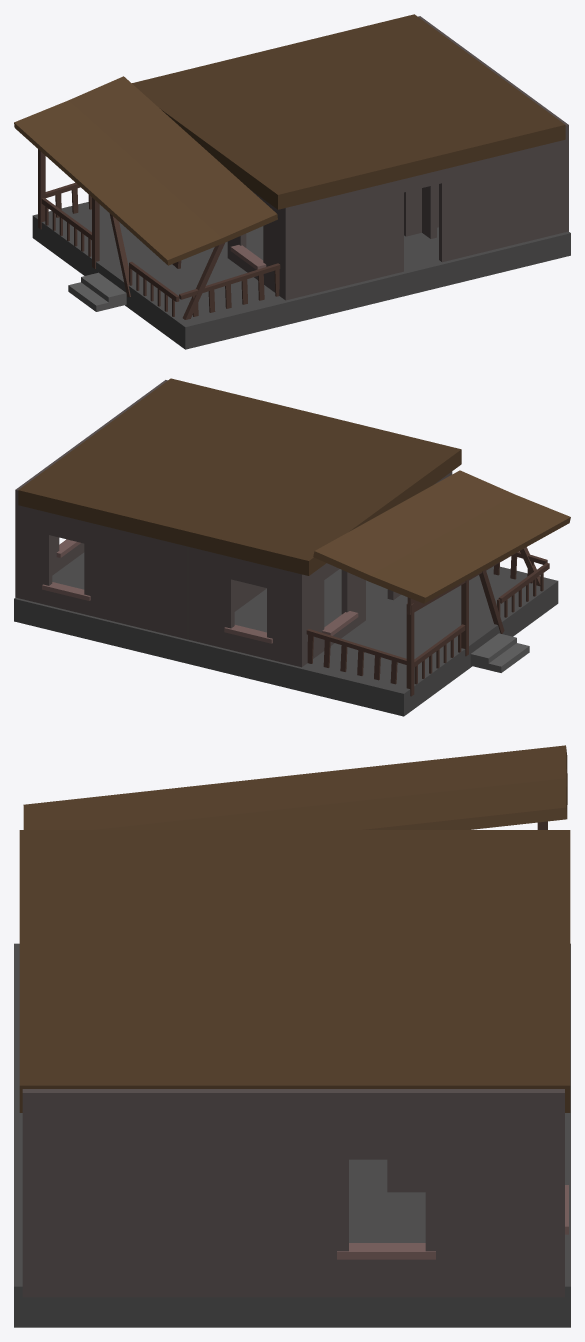
File: Warteg.fbx
The picture shows the model from 3 angles, top to bottom: view 1: azimuth 30°, elevation 25°; view 2: azimuth 150°, elevation 25°; view 3: azimuth 270°, elevation 25°; orthographic projection. The views are drawn at different scales.
Parts seen in each view (by area): view 1: polySurface46; view 2: polySurface46; view 3: polySurface46.
Part boxes in pixels (x1,y1,x2,y2): polySurface46: [14, 14, 570, 349]; polySurface46: [14, 378, 570, 716]; polySurface46: [14, 745, 570, 1327].
Size of the model in its own units: 13.75 by 4.44 by 8.72.
